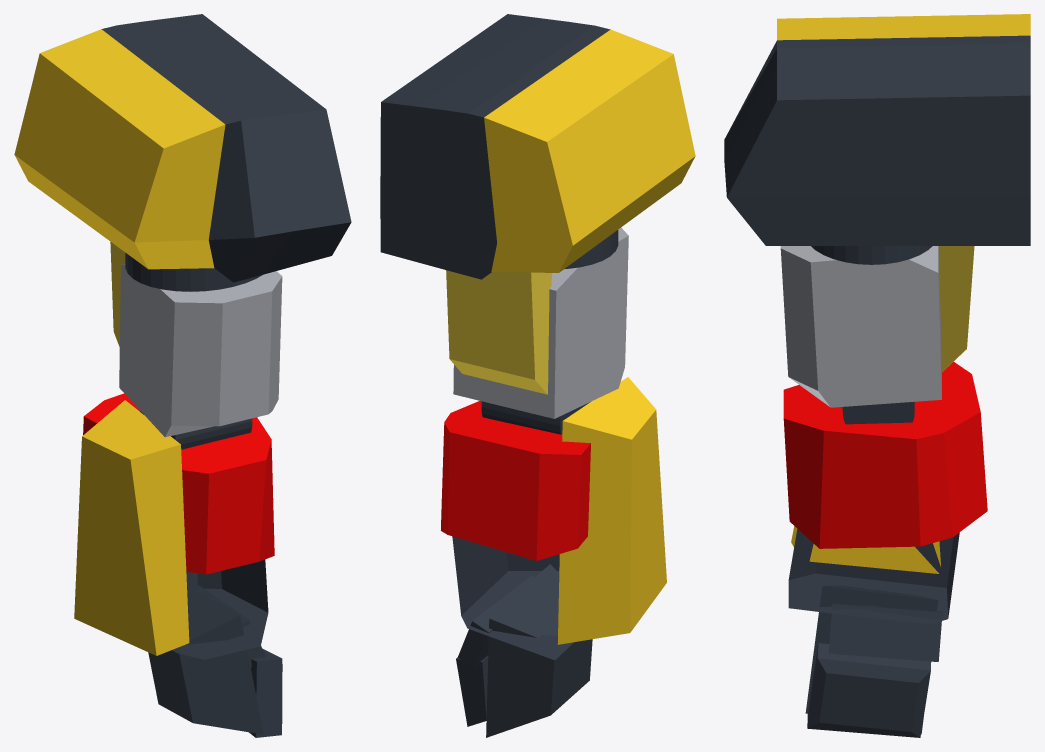
File: Robot-arm 1.fbx
The picture shows the model from 3 angles, left to right: view 1: azimuth 30°, elevation 25°; view 2: azimuth 150°, elevation 25°; view 3: azimuth 270°, elevation 25°; orthographic projection. The views are drawn at different scales.
Visible parts, largest first — view 1: ต้นแขน.012, ต้นแขน.011, ต้นแขน.002; view 2: ต้นแขน.012, ต้นแขน.011, ต้นแขน.002; view 3: ต้นแขน.012, ต้นแขน.011, ต้นแขน.002.
Part boxes in pixels (<box>): ต้นแขน.012: <box>14,14,351,449</box>; ต้นแขน.011: <box>74,393,274,659</box>; ต้นแขน.002: <box>148,585,282,737</box>; ต้นแขน.012: <box>380,14,695,434</box>; ต้นแขน.011: <box>441,377,666,660</box>; ต้นแขน.002: <box>456,564,592,737</box>; ต้นแขน.012: <box>724,14,1030,424</box>; ต้นแขน.011: <box>783,361,987,624</box>; ต้นแขน.002: <box>805,585,942,737</box>.
Bounding box in the file's own units: 62.07 × 207 × 85.41.
